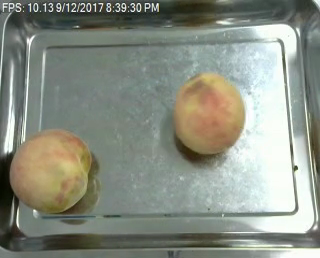Peach: (9, 127, 94, 214), (173, 71, 246, 154)
